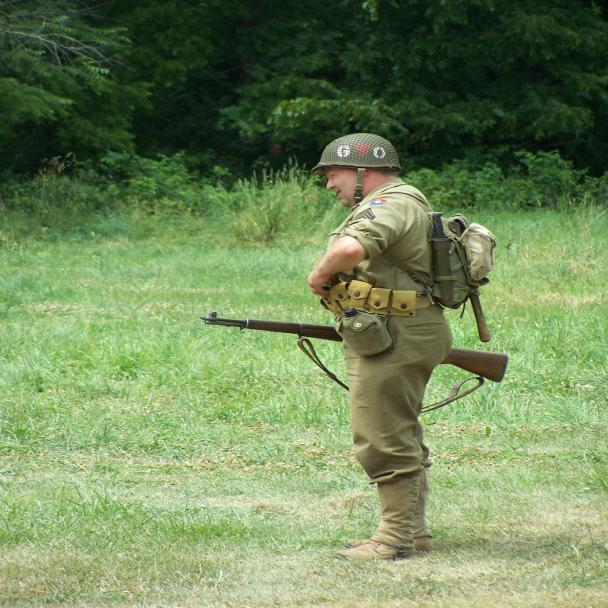Gun: (192, 302, 520, 392)
